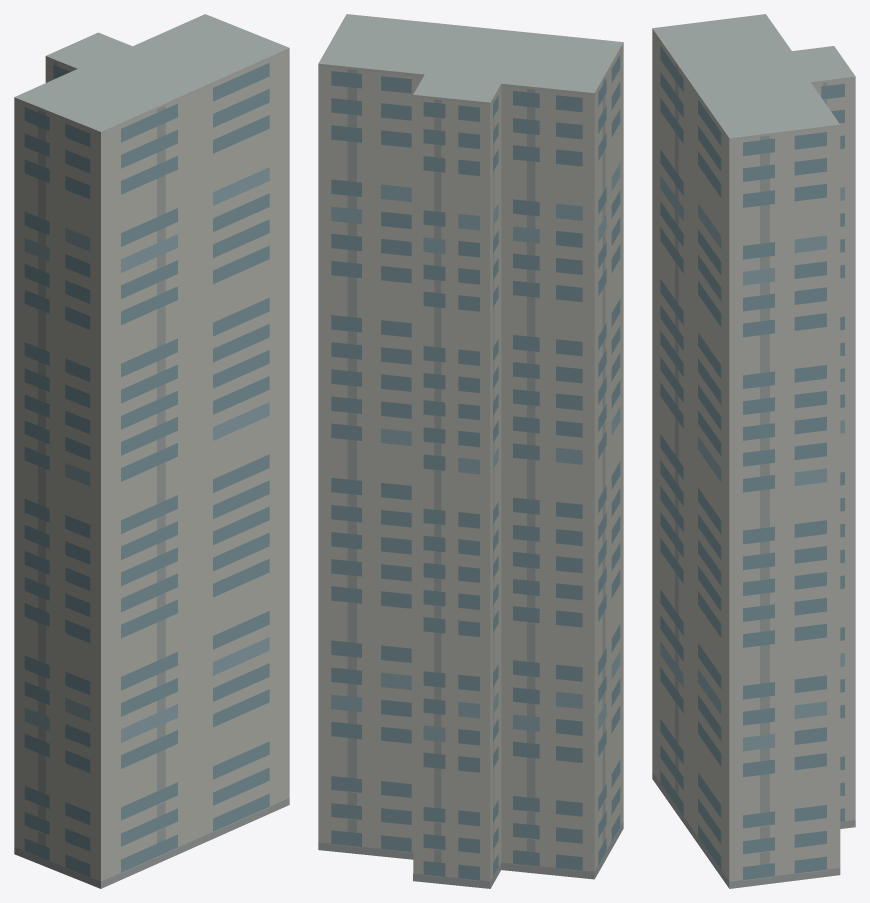
Rendered from residential-2e9c2654-8b83-481c-b454-540c5dea2a68.glb.
3 views of the same model, side by side, from view 1: azimuth 30°, elevation 25°; view 2: azimuth 150°, elevation 25°; view 3: azimuth 270°, elevation 25° (orthographic). The views are drawn at different scales.
Parts seen in each view (by area): view 1: residential-2e9c2654-8b83-481c-b454-540c5dea2a68.tmp; view 2: residential-2e9c2654-8b83-481c-b454-540c5dea2a68.tmp; view 3: residential-2e9c2654-8b83-481c-b454-540c5dea2a68.tmp.
Part boxes in pixels (left/top/right/bottom): residential-2e9c2654-8b83-481c-b454-540c5dea2a68.tmp: left=14, top=14, right=289, bottom=888; residential-2e9c2654-8b83-481c-b454-540c5dea2a68.tmp: left=318, top=14, right=623, bottom=888; residential-2e9c2654-8b83-481c-b454-540c5dea2a68.tmp: left=652, top=14, right=855, bottom=888.
Size of the model in its own units: 28.1 by 79 by 19.43.
